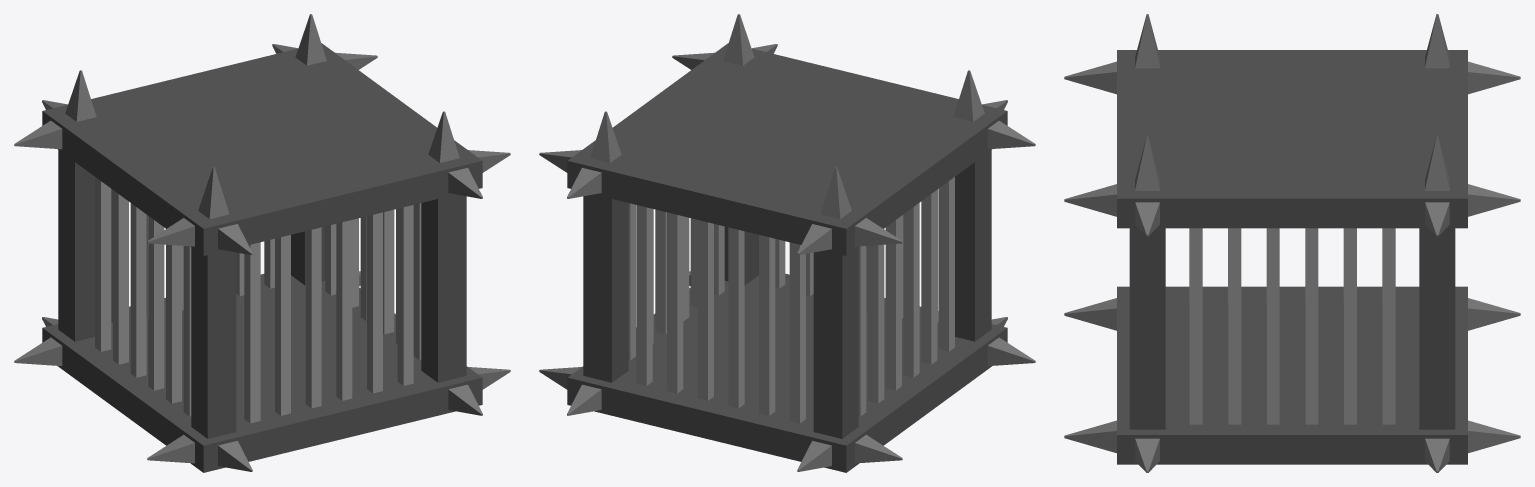
The model's file is LPCP_Cage25.fbx.
3 views of the same model, side by side, from view 1: azimuth 30°, elevation 25°; view 2: azimuth 150°, elevation 25°; view 3: azimuth 270°, elevation 25° (orthographic). The views are drawn at different scales.
Parts seen in each view (by area): view 1: LPCP_Cage25; view 2: LPCP_Cage25; view 3: LPCP_Cage25.
Part boxes in pixels (x1,y1,x2,y2): LPCP_Cage25: [14, 14, 510, 472]; LPCP_Cage25: [539, 14, 1035, 472]; LPCP_Cage25: [1064, 14, 1520, 472].
Size of the model in its own units: 3.15 by 2.4 by 3.15.
